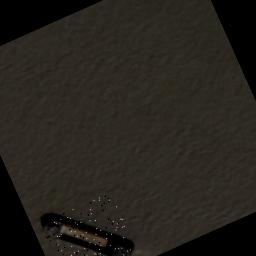boat: (40, 191, 140, 256)
